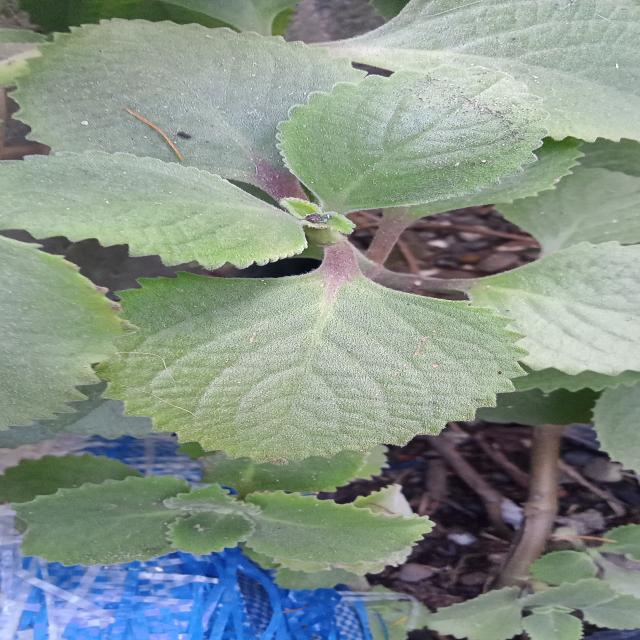Oregano: (77, 247, 544, 476)
